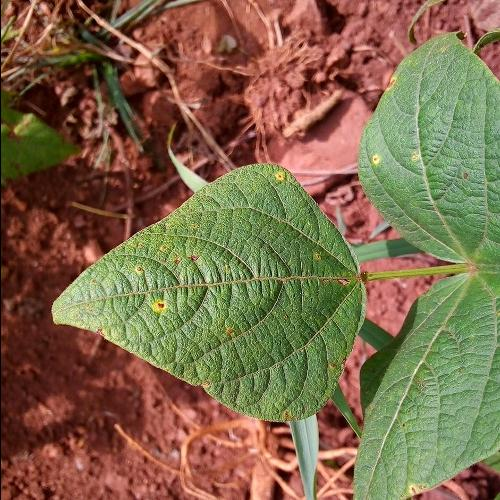embun tepung: (121, 204, 356, 388)
